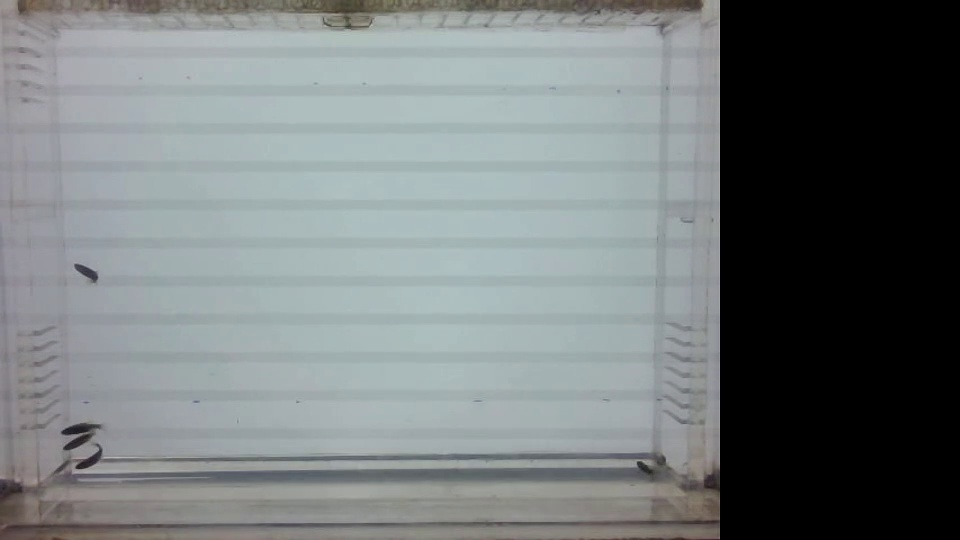fish: (64, 256, 106, 284), (56, 420, 100, 440), (52, 432, 96, 452), (70, 452, 108, 472), (628, 458, 653, 482), (653, 448, 668, 472)
